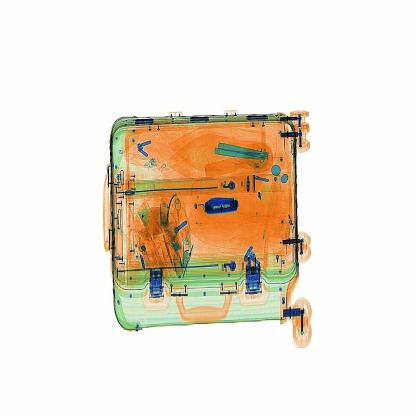scissors: (202, 196, 240, 218)
